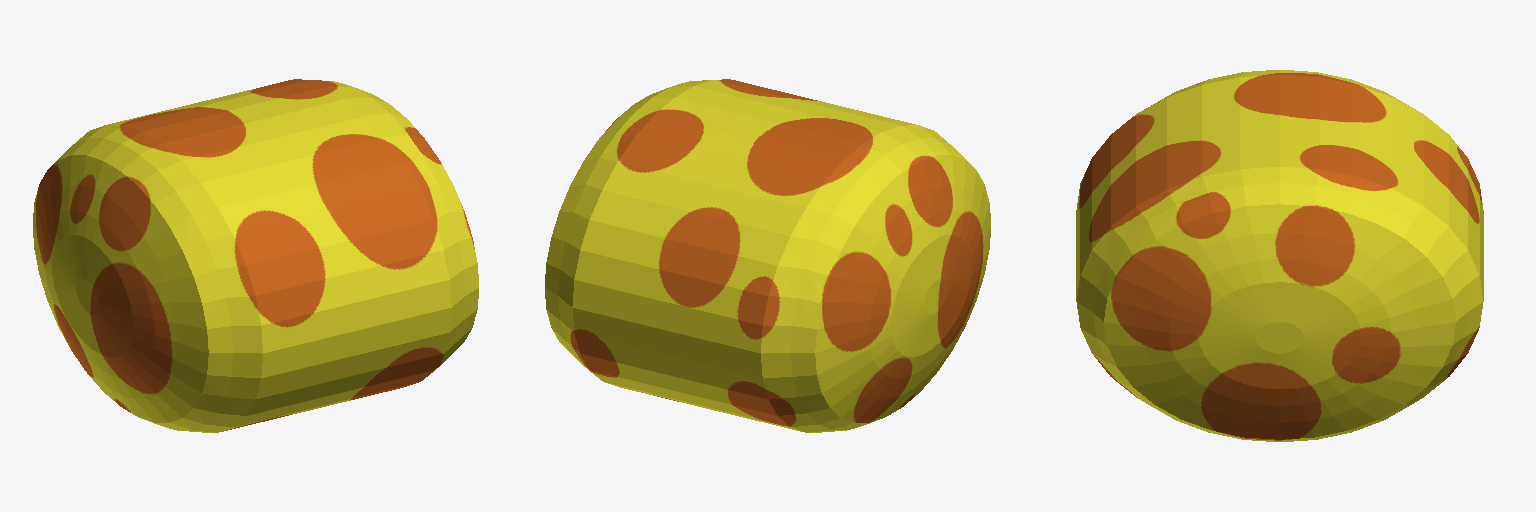
3 renders of one model, left to right at view 1: azimuth 30°, elevation 25°; view 2: azimuth 150°, elevation 25°; view 3: azimuth 270°, elevation 25°, orthographic.
Visible parts, largest first — view 1: 円柱; view 2: 円柱; view 3: 円柱.
Part boxes in pixels (bbox=[...]): 円柱: bbox=[33, 79, 478, 432]; 円柱: bbox=[545, 79, 990, 432]; 円柱: bbox=[1076, 70, 1483, 441].
Size of the model in its own units: 2.87 by 2.21 by 3.01.
Materials: 1 (1 with a texture image).